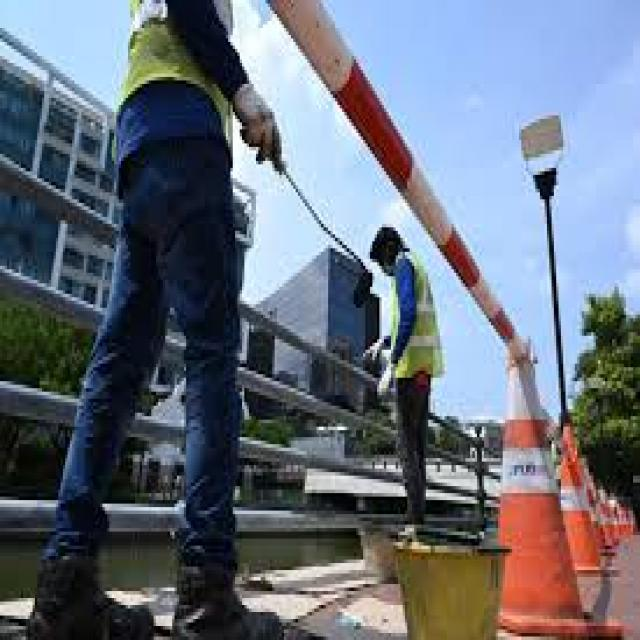Reflective-Jacket: (102, 3, 247, 168), (377, 248, 449, 392)
Safety-Helmet: (363, 213, 405, 266)
